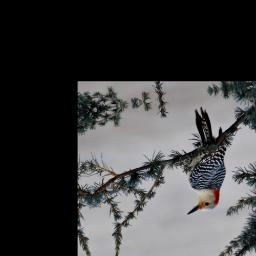Woodpecker: (169, 105, 237, 215)
